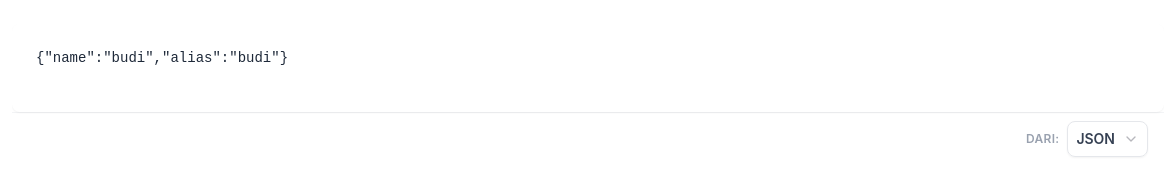
Test: in-panel search › highlights every match in the input textarea
Press f
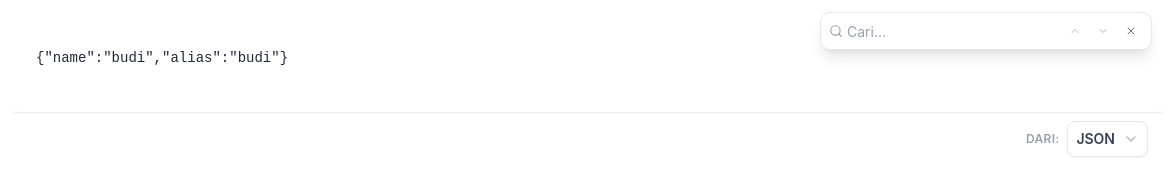
Type "budi" into the field named "Kata kunci pencarian" at [927, 31], box left=847, top=17, right=1007, bottom=45
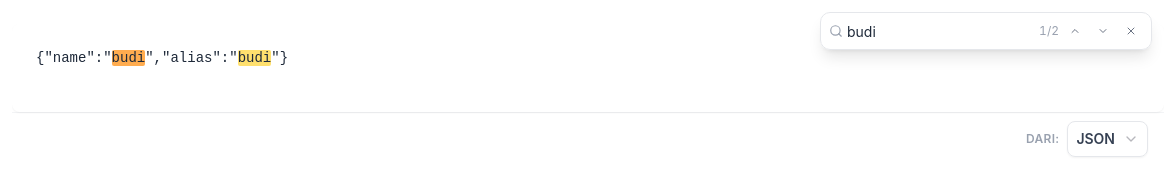
Check: the text "1/2" is shown, box left=1039, top=23, right=1059, bottom=38
